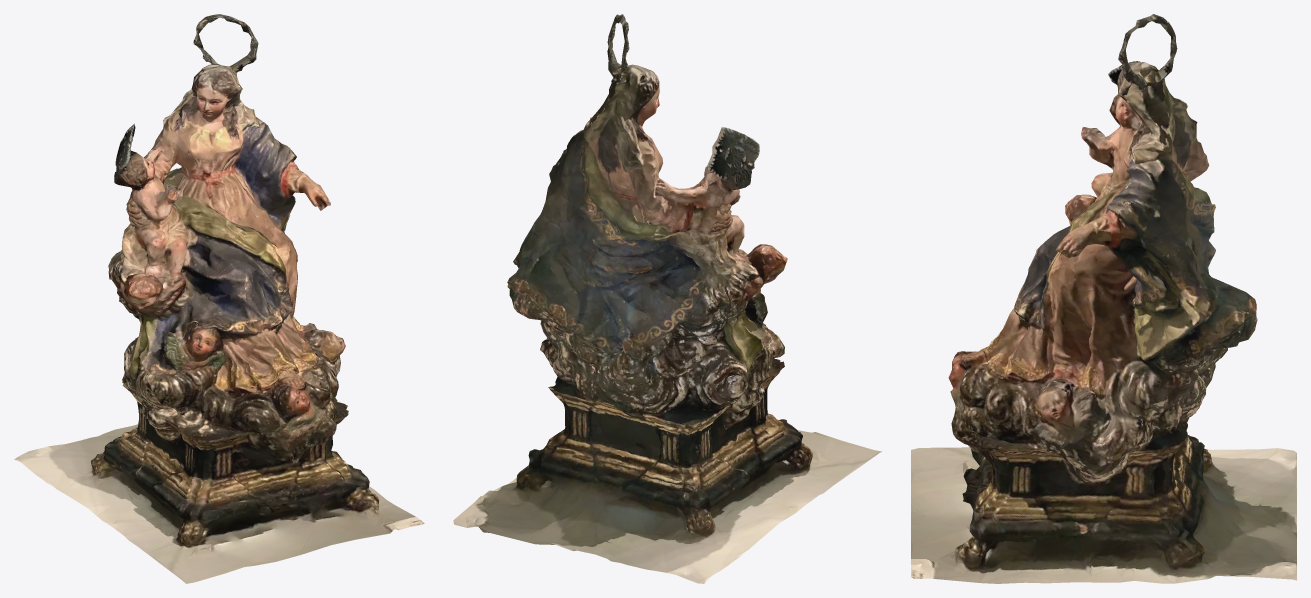
File: rosario.glb
3 views of the same model, side by side, from view 1: azimuth 30°, elevation 25°; view 2: azimuth 150°, elevation 25°; view 3: azimuth 270°, elevation 25° (orthographic). The views are drawn at different scales.
Visible parts, largest first — view 1: Object_4; view 2: Object_4; view 3: Object_4.
Boxes of the visible parts, x1,y1,x2,y2 form: Object_4: (14, 14, 424, 583); Object_4: (453, 14, 881, 583); Object_4: (911, 14, 1296, 583).
Size of the model in its own units: 0.6238 by 1.14 by 0.776.
Materials: 1 (1 with a texture image).
